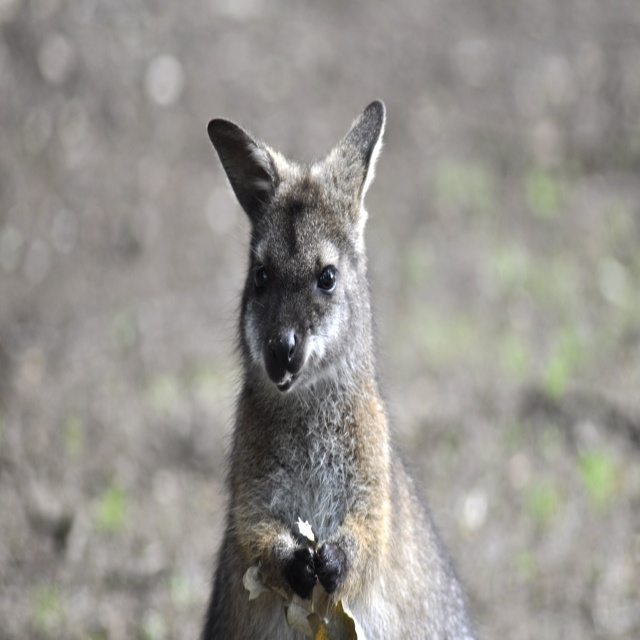Kangaroo: (198, 97, 488, 640)
